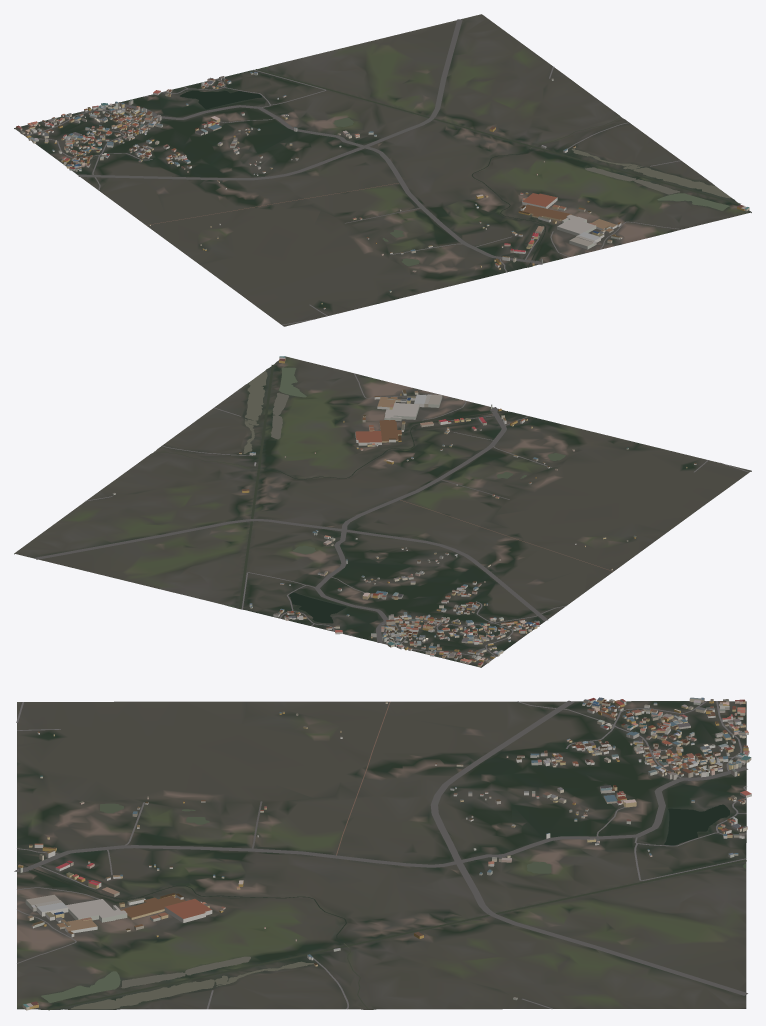
3 renders of one model, top to bottom at view 1: azimuth 30°, elevation 25°; view 2: azimuth 150°, elevation 25°; view 3: azimuth 270°, elevation 25°, orthographic. The views are drawn at different scales.
Parts seen in each view (by area): view 1: ground, buildings, roads, water; view 2: ground, buildings, roads, water; view 3: ground, buildings, roads, water.
Boxes of the visible parts, <box> form: ground: <box>14,14,751,326</box>; buildings: <box>16,72,749,309</box>; roads: <box>25,19,681,325</box>; water: <box>180,66,740,267</box>; ground: <box>14,356,751,667</box>; buildings: <box>112,356,696,666</box>; roads: <box>35,373,749,659</box>; water: <box>154,365,565,623</box>; ground: <box>17,701,746,1009</box>; buildings: <box>18,697,751,1010</box>; roads: <box>14,700,747,1009</box>; water: <box>17,803,746,1010</box>.
Size of the model in its own units: 1408 by 15.96 by 1418.
